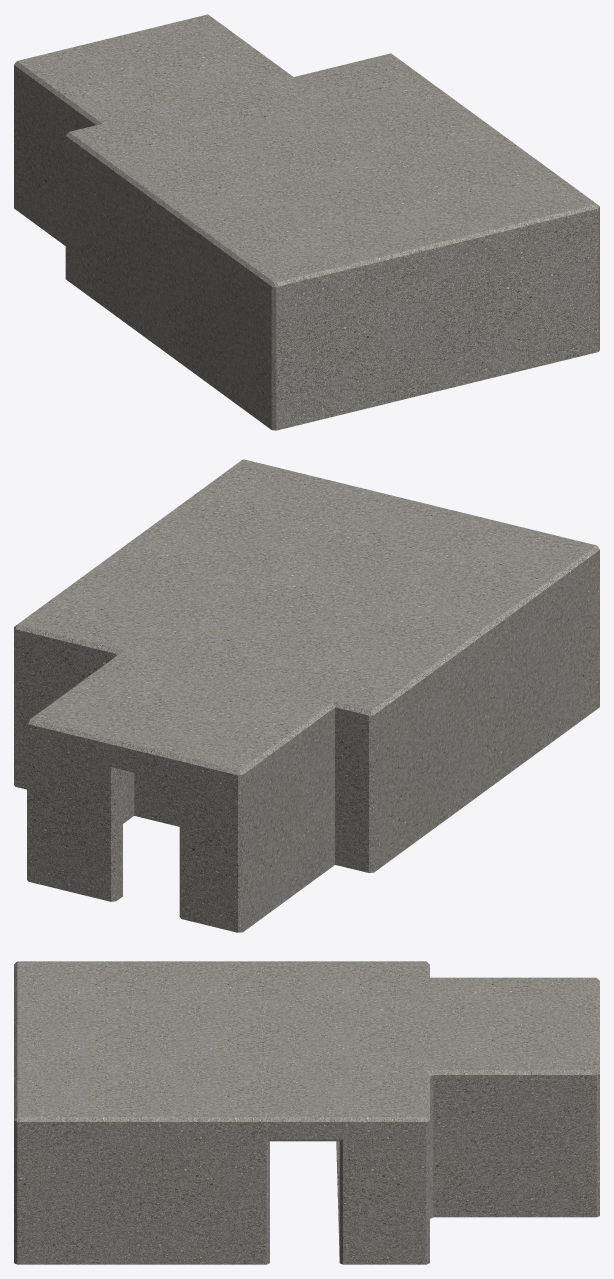
Rendered from building.obj.
3 views of the same model, one above another, from view 1: azimuth 30°, elevation 25°; view 2: azimuth 150°, elevation 25°; view 3: azimuth 270°, elevation 25° (orthographic). The views are drawn at different scales.
Parts seen in each view (by area): view 1: Plane; view 2: Plane; view 3: Plane.
Part boxes in pixels (x1=…): Plane: x1=14, y1=14, x2=599, y2=430; Plane: x1=14, y1=459, x2=599, y2=932; Plane: x1=14, y1=961, x2=599, y2=1264.
Size of the model in its own units: 4.72 by 2.02 by 7.35.
Materials: 1 (1 with a texture image).
